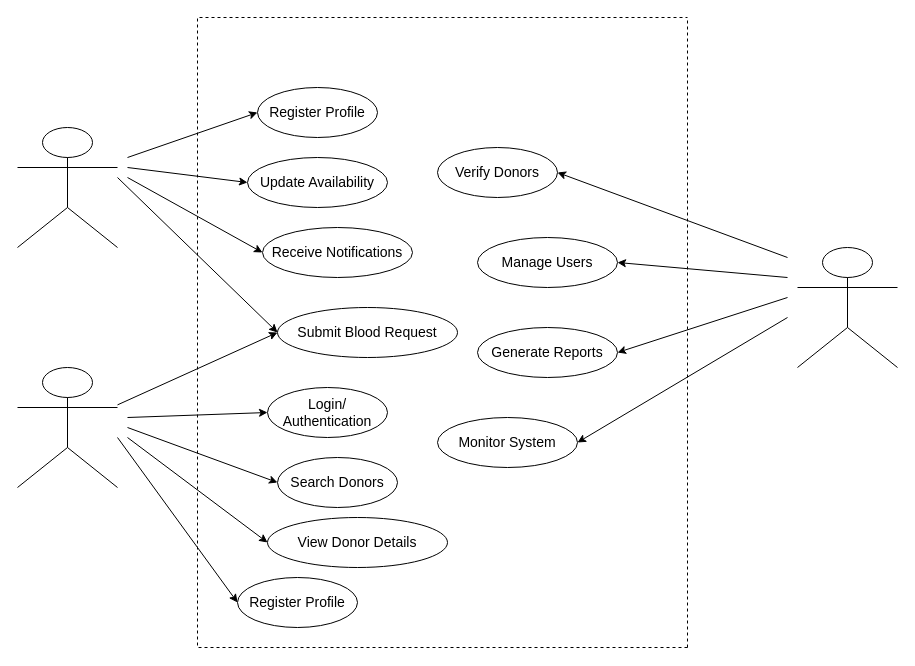
The diagram is 915 pixels wide and 666 high, and some of its shapes have lost their labels. The centre of each missing label's shape, as x and y in pixels:
Admin: (847,307)
Donor: (67,187)
Recipient: (67,427)
